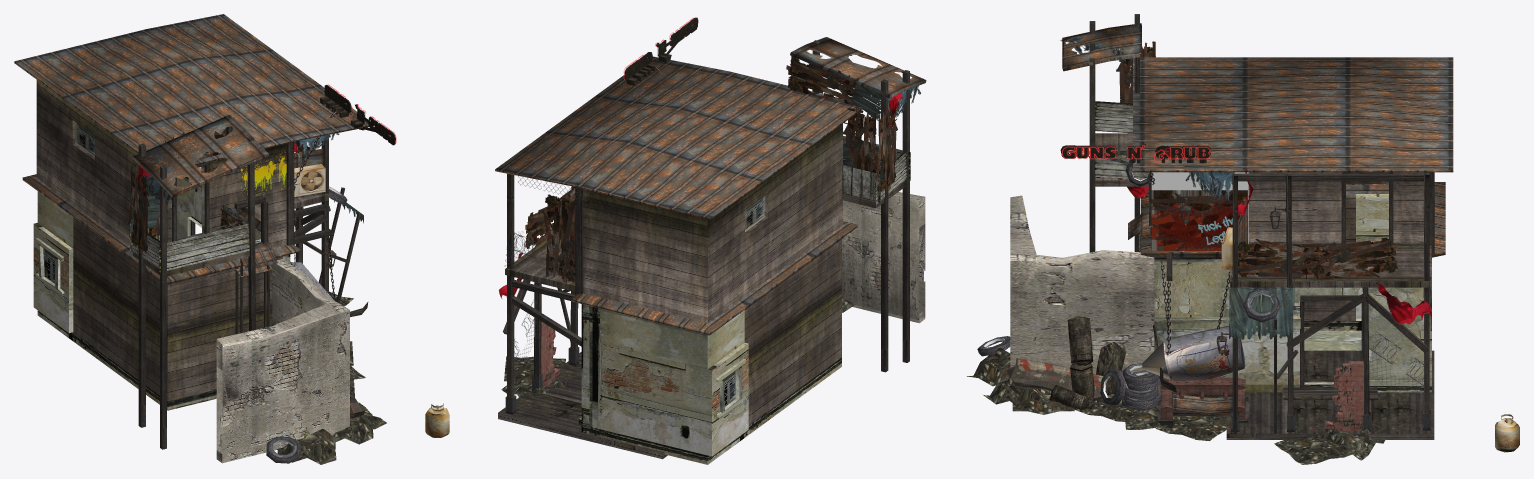
File: frontier_shopfront.glb
The picture shows the model from 3 angles, left to right: view 1: azimuth 30°, elevation 25°; view 2: azimuth 150°, elevation 25°; view 3: azimuth 270°, elevation 25°; orthographic projection. The views are drawn at different scales.
Parts seen in each view (by area): view 1: Cube_0, Plane.008_22, wood beam.002_28, Cube.017_13, Cube.019_15, Cube.018_14, scrap wall.005_122, Plane.005_111, Cube.046_60, Cube.062_85, Cube.003_2, Cube.028_30 (+9 smaller); view 2: Cube_0, Cube.026_24, Plane.008_22, scrap wall.009_138, Cube.017_13, scrap wall.006_123, Cube.019_15, Cube.004_3, scrap wall.004_121, Cube.001_1, scrap wall.005_122, wood beam.003_48 (+12 smaller); view 3: Cube_0, Cube.026_24, metal wall plate_73, Cylinder.013_86, Cube.001_1, scrap wall.001_45, Plane_59, scrap wall_44, Plane.008_22, Cube.069_98, Cube.061_84, Aset_structure_cement_M_sdsbo_LOD5_108 (+34 smaller).
Boxes of the visible parts, bbox=[...] form: Cube_0: bbox=[14, 14, 369, 463]; Plane.008_22: bbox=[133, 114, 268, 197]; wood beam.002_28: bbox=[159, 223, 249, 272]; Cube.017_13: bbox=[160, 165, 166, 449]; Cube.019_15: bbox=[138, 143, 145, 427]; Cube.018_14: bbox=[247, 136, 255, 331]; scrap wall.005_122: bbox=[128, 166, 149, 253]; Plane.005_111: bbox=[277, 429, 336, 464]; Cube.046_60: bbox=[286, 142, 294, 245]; Cube.062_85: bbox=[294, 164, 325, 196]; Cube.003_2: bbox=[321, 136, 328, 293]; Cube.028_30: bbox=[324, 85, 395, 145]; Cube_0: bbox=[495, 56, 925, 464]; Cube.026_24: bbox=[498, 352, 667, 459]; Plane.008_22: bbox=[790, 37, 926, 98]; scrap wall.009_138: bbox=[542, 194, 575, 282]; Cube.017_13: bbox=[902, 70, 909, 362]; scrap wall.006_123: bbox=[786, 58, 863, 113]; Cube.019_15: bbox=[881, 79, 888, 372]; Cube.004_3: bbox=[507, 173, 514, 397]; scrap wall.004_121: bbox=[843, 106, 881, 175]; Cube.001_1: bbox=[505, 235, 575, 291]; scrap wall.005_122: bbox=[875, 105, 897, 193]; wood beam.003_48: bbox=[842, 165, 880, 202]; Cube_0: bbox=[1010, 57, 1453, 392]; Cube.026_24: bbox=[1226, 350, 1434, 439]; metal wall plate_73: bbox=[1151, 172, 1248, 250]; Cylinder.013_86: bbox=[1142, 324, 1245, 392]; Cube.001_1: bbox=[1230, 242, 1431, 287]; scrap wall.001_45: bbox=[1238, 238, 1328, 279]; Plane_59: bbox=[1229, 287, 1294, 339]; scrap wall_44: bbox=[1307, 237, 1397, 279]; Plane.008_22: bbox=[1062, 23, 1141, 71]; Cube.069_98: bbox=[1157, 377, 1249, 425]; Cube.061_84: bbox=[1325, 361, 1363, 431]; Aset_structure_cement_M_sdsbo_LOD5_108: bbox=[1006, 358, 1107, 399].
Size of what is drawn, in the model's own units: 3.99 by 3.66 by 5.73.
29 materials, 29 textured.
